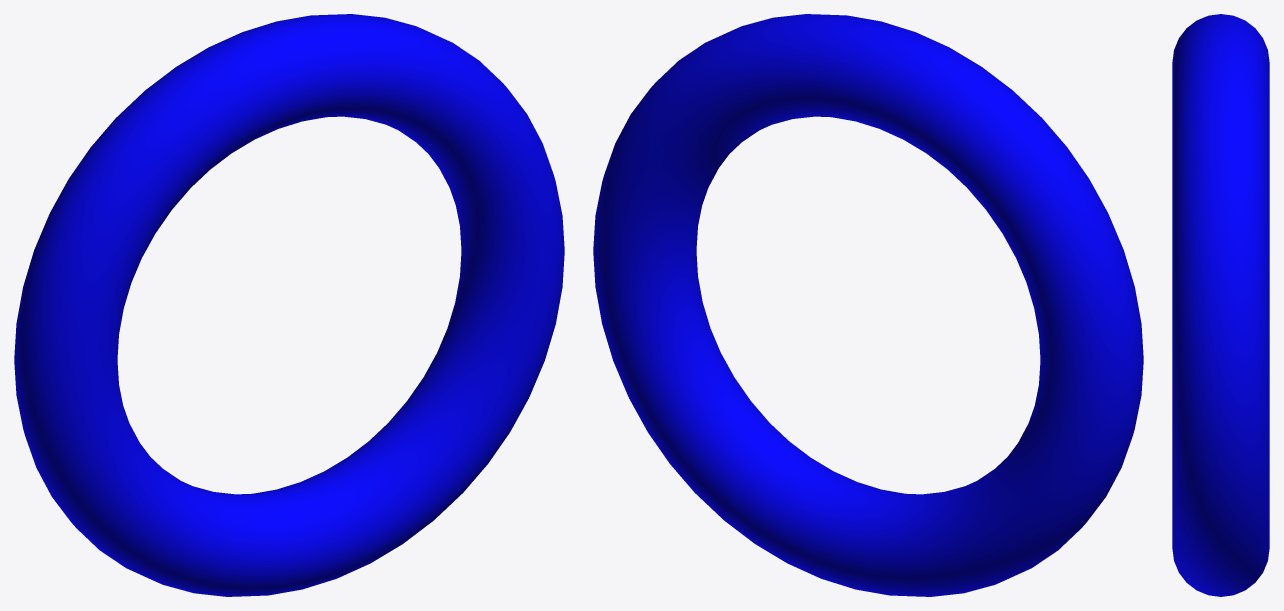
Rendered from ManipulatorWheel.fbx.
3 renders of one model, left to right at view 1: azimuth 30°, elevation 25°; view 2: azimuth 150°, elevation 25°; view 3: azimuth 270°, elevation 25°, orthographic. The views are drawn at different scales.
Visible parts, largest first — view 1: Torus.002; view 2: Torus.002; view 3: Torus.002.
Boxes of the visible parts, bbox=[...] form: Torus.002: bbox=[14, 14, 564, 596]; Torus.002: bbox=[593, 14, 1143, 596]; Torus.002: bbox=[1172, 14, 1269, 596].
Bounding box in the file's own units: 0.6 × 0.6 × 0.1.
